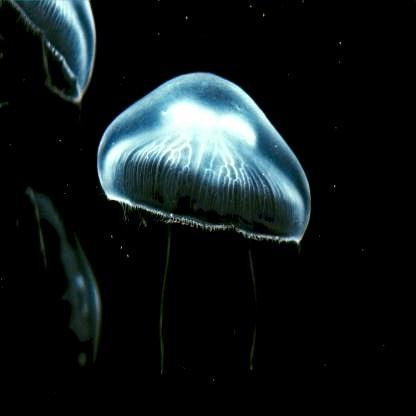Speckle: (92, 70, 312, 378), (10, 185, 100, 407), (0, 0, 91, 129)
